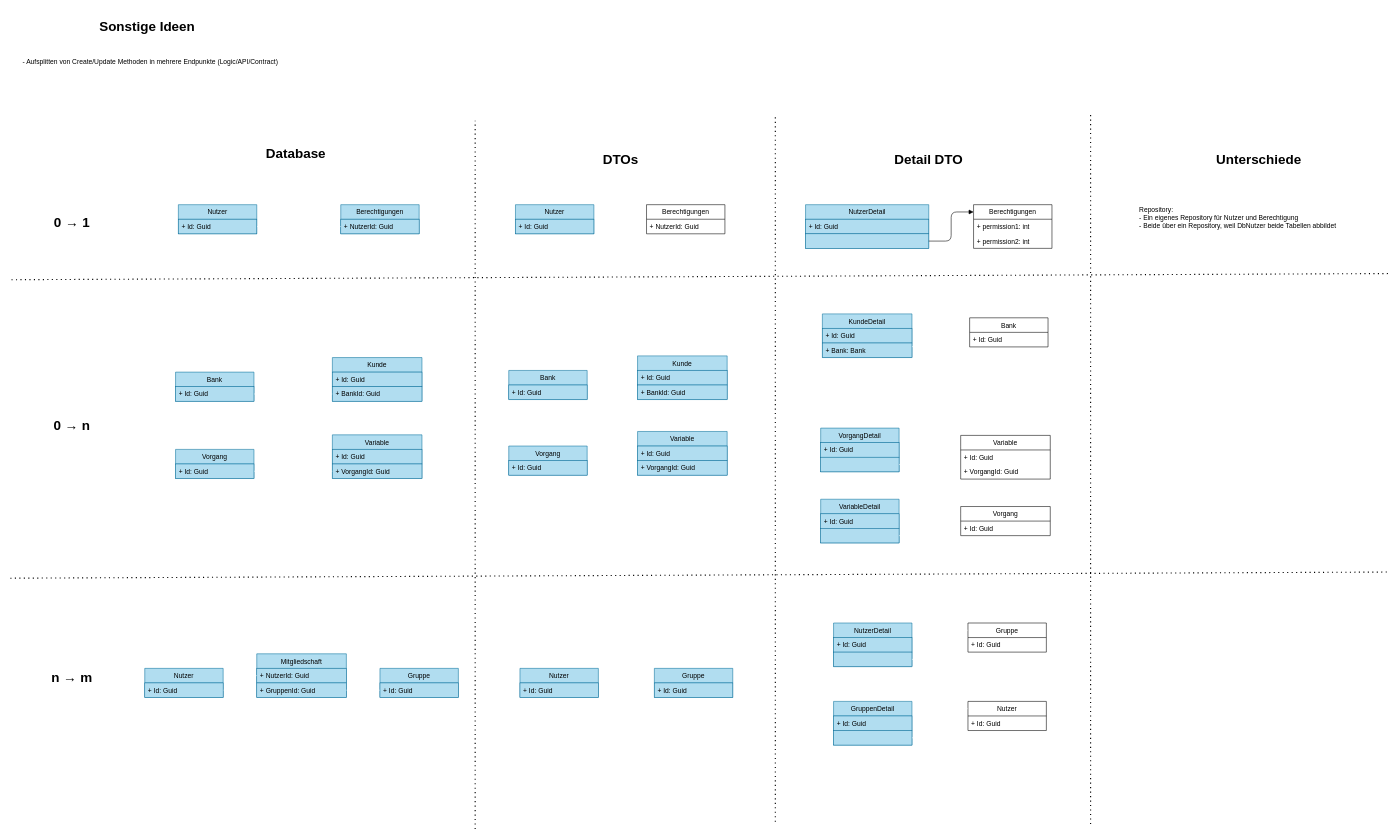
This 1398x839 diagram has some shape labels left out. The shapes that lost their labels are listed below. From the top down, each one's centre as x and y in pixels, then its label:
At point (867, 240): "+ berechtigungen: Berechtigungen".
At point (859, 464): "+ variablen: Variable[]".
At point (859, 535): "+ vorgaenge: Vorgang".
At point (872, 659): "+ gruppen: Gruppe[]".
At point (872, 737): "+ nutzer: Nutzer[]".
